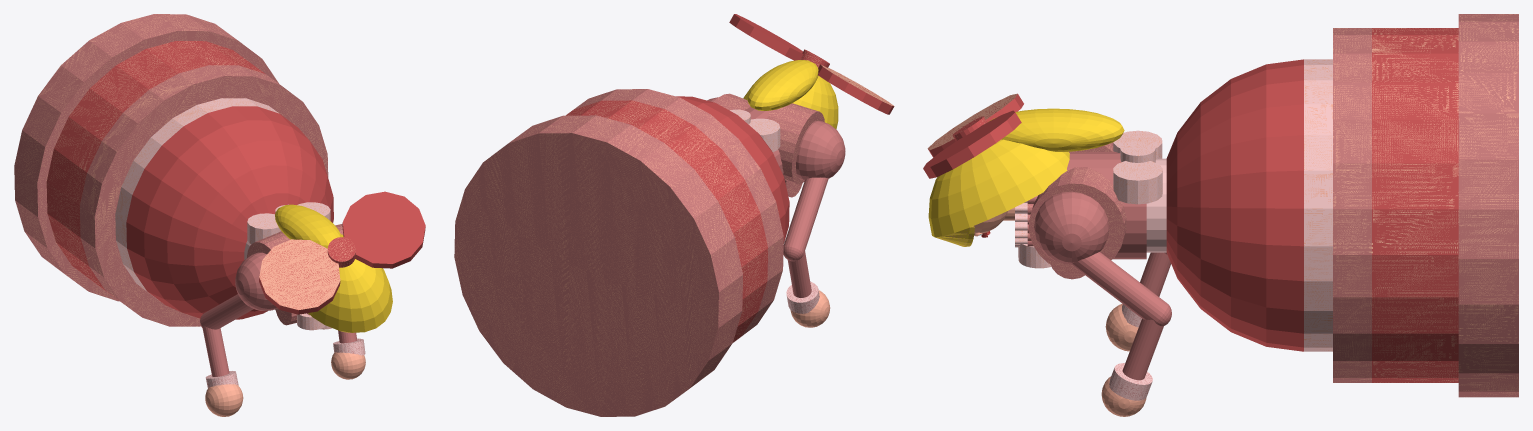
3 renders of one model, left to right at view 1: azimuth 30°, elevation 25°; view 2: azimuth 150°, elevation 25°; view 3: azimuth 270°, elevation 25°, orthographic. The views are drawn at different scales.
Visible parts, largest first — view 1: mu ntilde eca dool; view 2: mu ntilde eca dool; view 3: mu ntilde eca dool.
Part boxes in pixels (x1,y1,x2,y2): mu ntilde eca dool: (14,14,425,416); mu ntilde eca dool: (454,14,894,416); mu ntilde eca dool: (923,14,1518,416).
Size of the model in its own units: 6.71 by 6.95 by 10.49.
